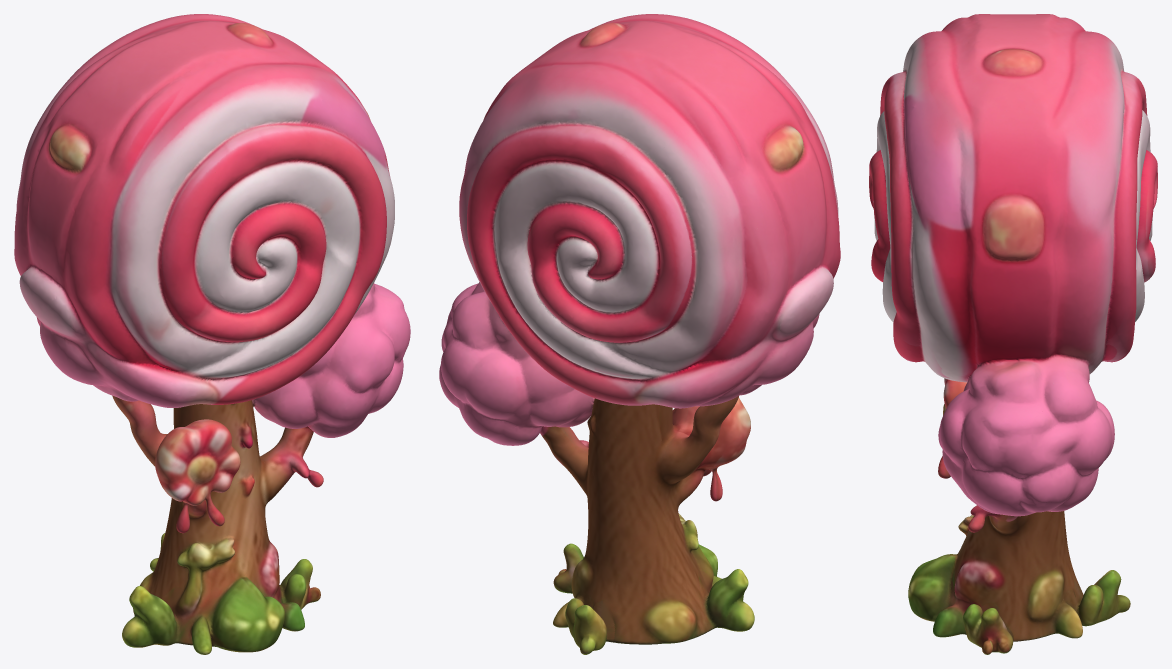
The model's file is Meshy_AI_Candy_Swirl_Tree_1019070740_texture.fbx.
The picture shows the model from 3 angles, left to right: view 1: azimuth 30°, elevation 25°; view 2: azimuth 150°, elevation 25°; view 3: azimuth 270°, elevation 25°; orthographic projection.
Parts seen in each view (by area): view 1: Mesh_0; view 2: Mesh_0; view 3: Mesh_0.
Boxes of the visible parts, x1,y1,x2,y2 form: Mesh_0: (14, 14, 410, 654); Mesh_0: (439, 14, 840, 654); Mesh_0: (869, 14, 1157, 654).
Size of the model in its own units: 126 by 190 by 86.14.
1 material, 1 textured.
